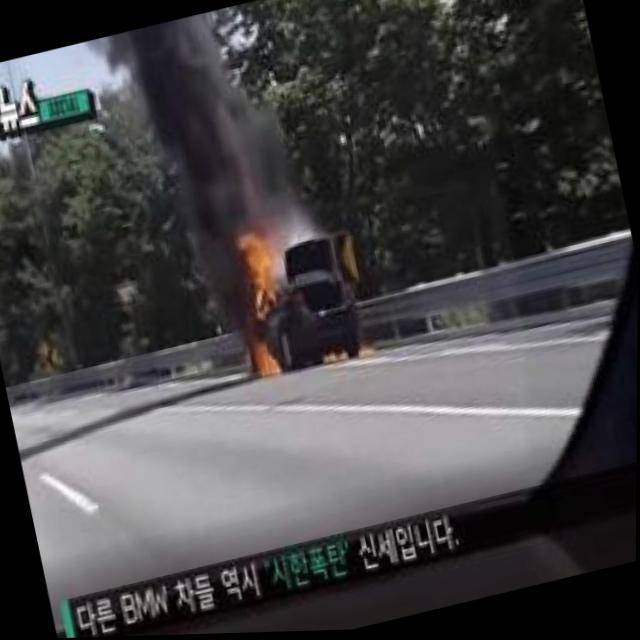Fire: (231, 248, 301, 383)
